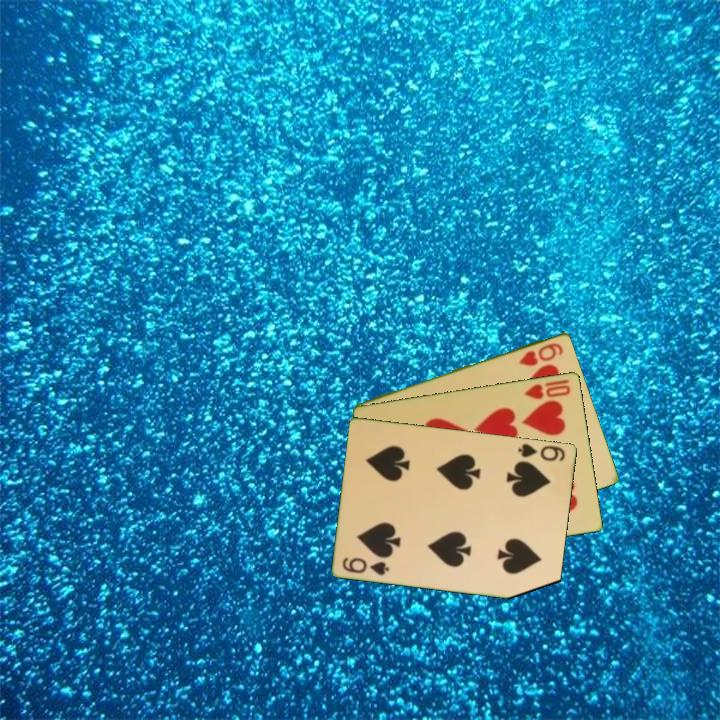10h: (521, 375, 573, 402)
6h: (515, 339, 566, 369)
6s: (515, 440, 568, 464), (339, 554, 392, 578)
